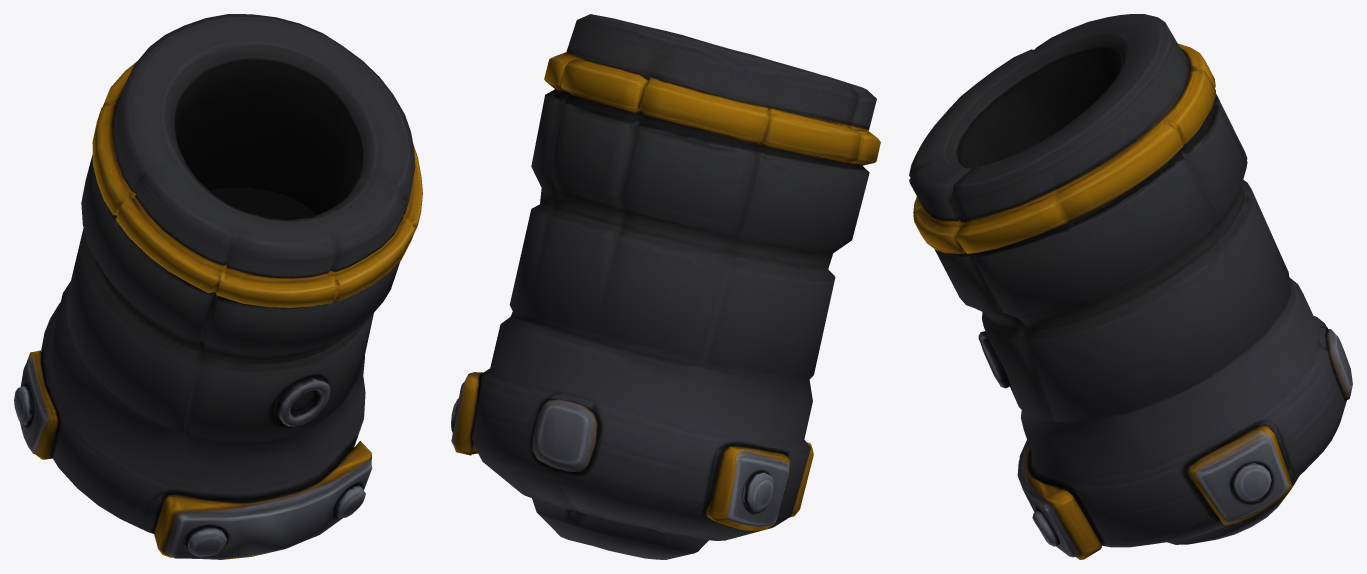
File: mortar_fully_final.fbx
3 views of the same model, side by side, from view 1: azimuth 30°, elevation 25°; view 2: azimuth 150°, elevation 25°; view 3: azimuth 270°, elevation 25° (orthographic). The views are drawn at different scales.
Parts seen in each view (by area): view 1: tripo_node_d3a7dc01, pCylinder1; view 2: tripo_node_d3a7dc01; view 3: tripo_node_d3a7dc01.
Boxes of the visible parts, box(x1,y1,x2,y2) form: tripo_node_d3a7dc01: box(14, 14, 422, 559); pCylinder1: box(209, 187, 315, 219); tripo_node_d3a7dc01: box(451, 14, 880, 559); tripo_node_d3a7dc01: box(909, 14, 1352, 559).
Size of the model in its own units: 64.48 by 99.91 by 82.23.
2 materials, 1 textured.
